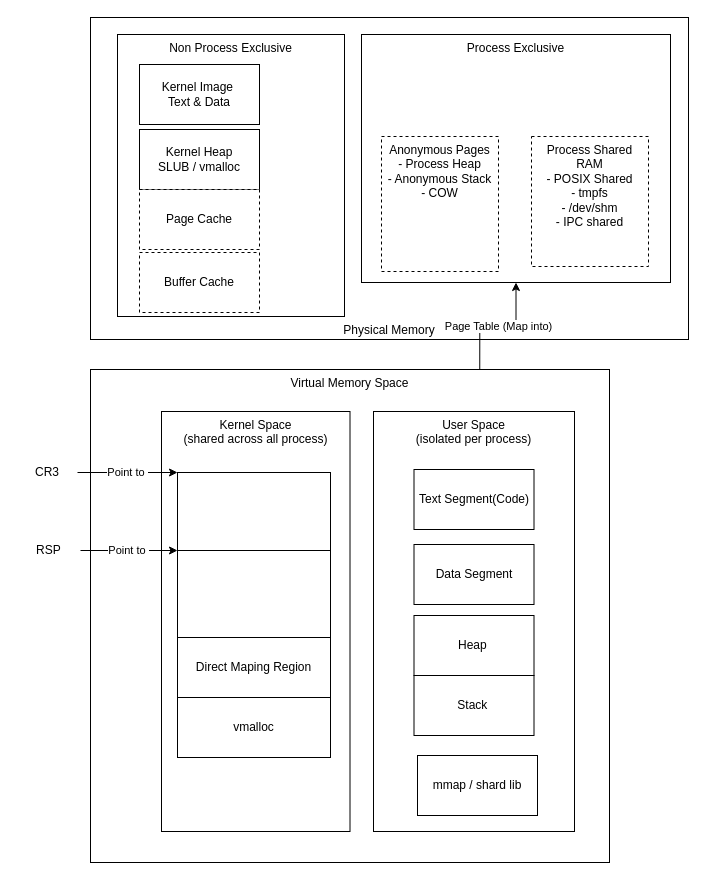
Image size: 706x880. Some labels were removed from this diagram. The shapes that lost their labels are listed below. From the top down, each one's centre as x and y in pixels, then its label:
At [253,511]: "PCB (8KB) -pid = 1234 -mm = PGD -> CR3 -files".
At [253,594]: "Kernel Stack Stack top".
